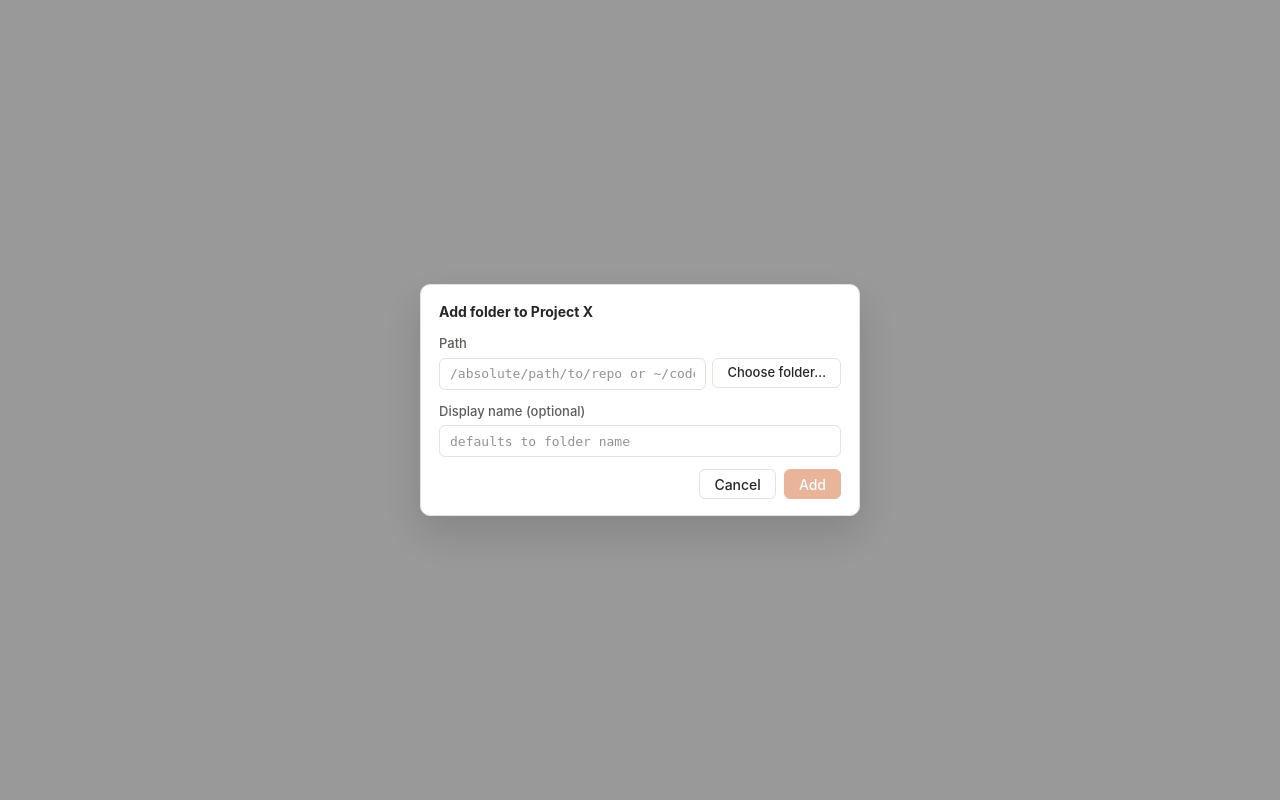
it: AddFolderDialog — Browse button › Browse → 2 candidates → disambiguation list renders
What coordinates should you click on to do the following:
click the button "Choose folder…"
I would click on:
 (777, 372)
Its box is [712, 358, 841, 388].
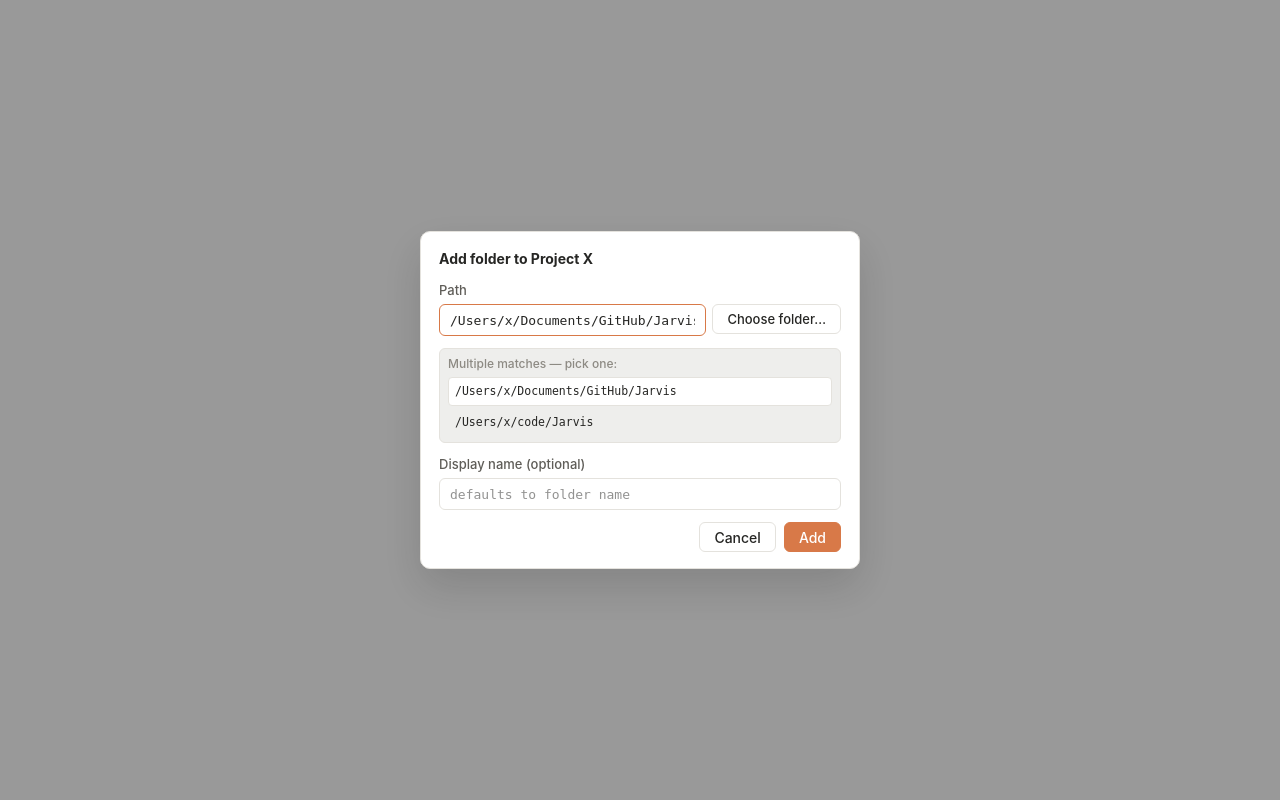
Expected: the text "/Users/x/Documents/GitHub/Jarvis" is shown, [455, 384, 677, 398]
Expected: the text "/Users/x/code/Jarvis" is shown, [455, 414, 594, 428]
